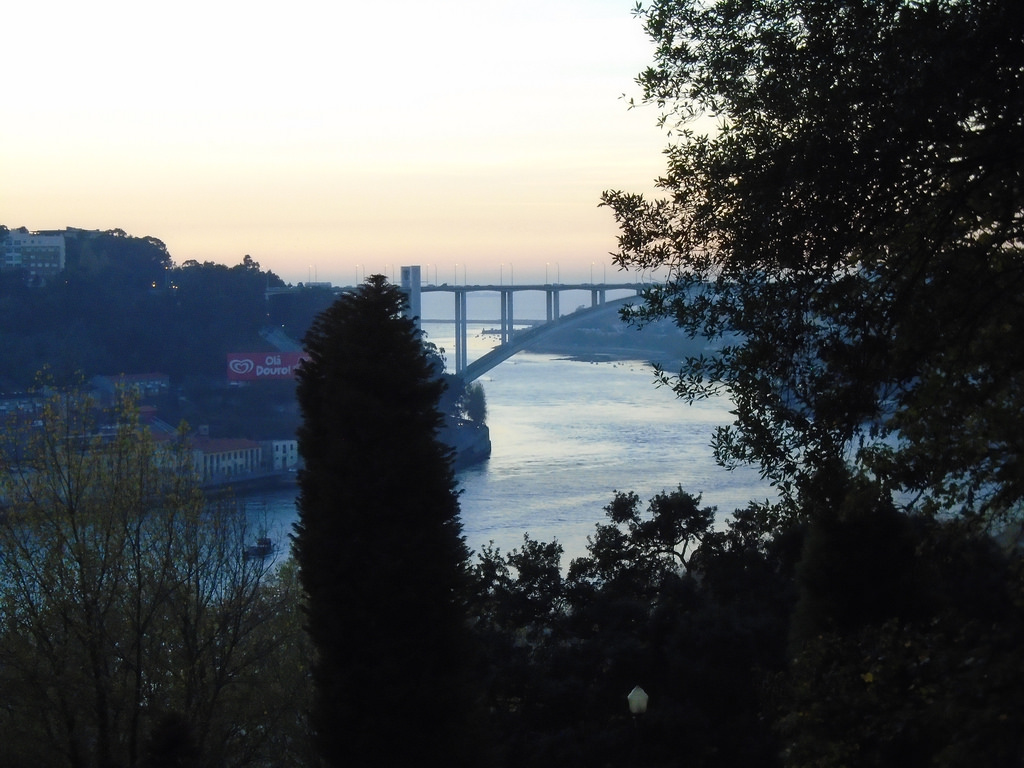arrabida: (328, 263, 791, 412)
